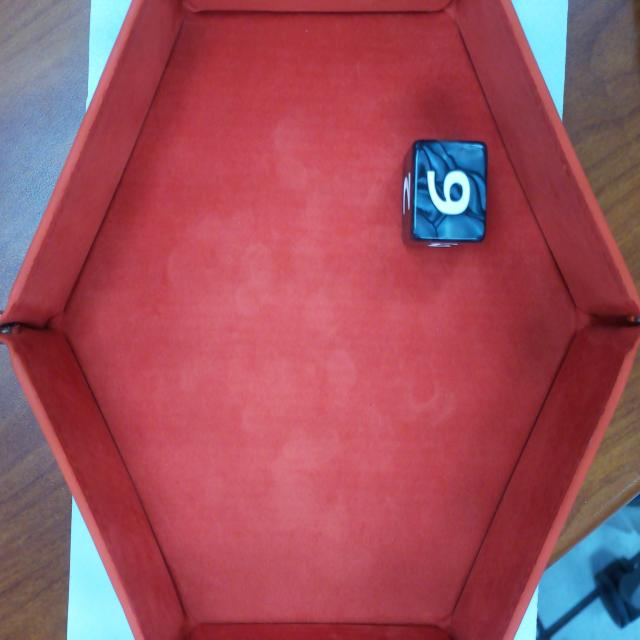dice: (416, 144, 483, 237)
